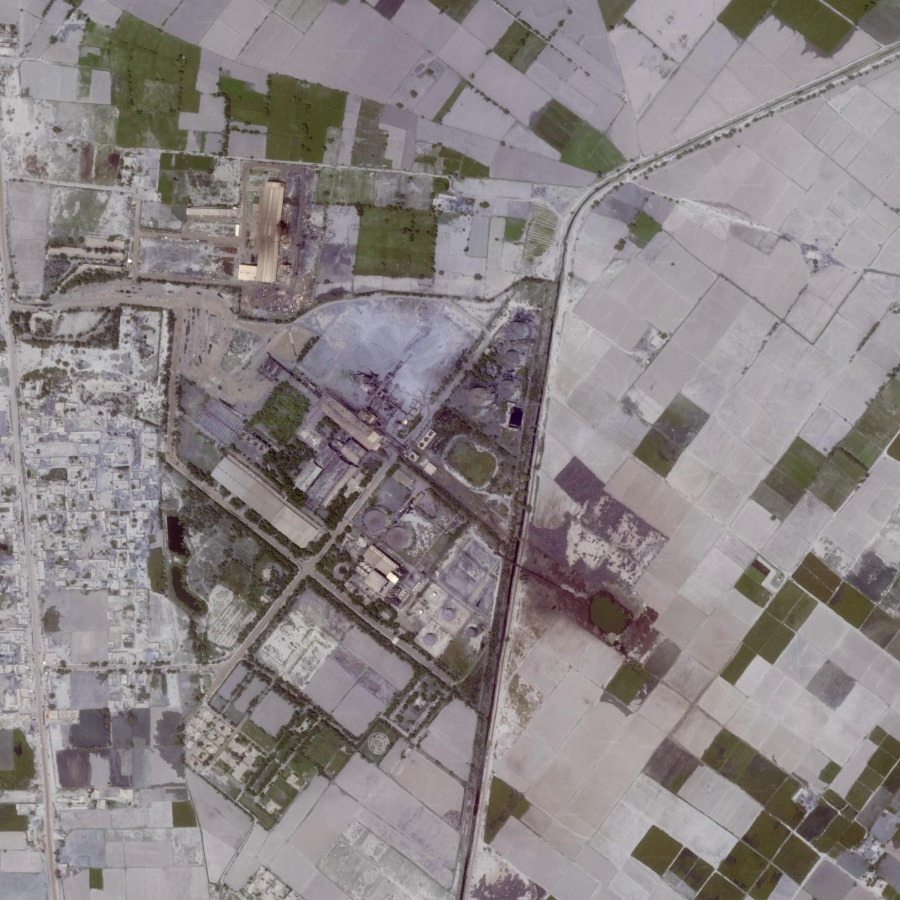PowerPlant: (309, 436, 499, 654)
